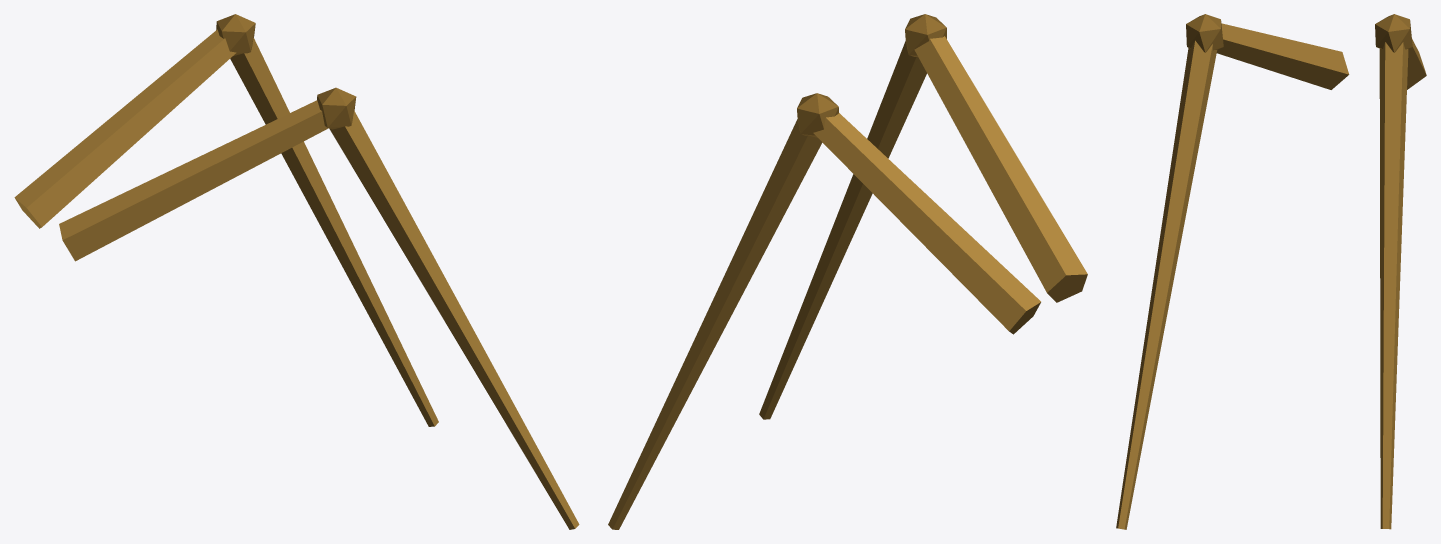
File: spider_3_leg_fl.glb
3 views of the same model, side by side, from view 1: azimuth 30°, elevation 25°; view 2: azimuth 150°, elevation 25°; view 3: azimuth 270°, elevation 25° (orthographic). The views are drawn at different scales.
Parts seen in each view (by area): view 1: spider_3_leg_fl; view 2: spider_3_leg_fl; view 3: spider_3_leg_fl.
Boxes of the visible parts, x1=… form: spider_3_leg_fl: x1=14, y1=14, x2=579, y2=529; spider_3_leg_fl: x1=608, y1=14, x2=1087, y2=529; spider_3_leg_fl: x1=1116, y1=14, x2=1426, y2=529.
Size of the model in its own units: 0.6358 by 0.6754 by 0.444.
